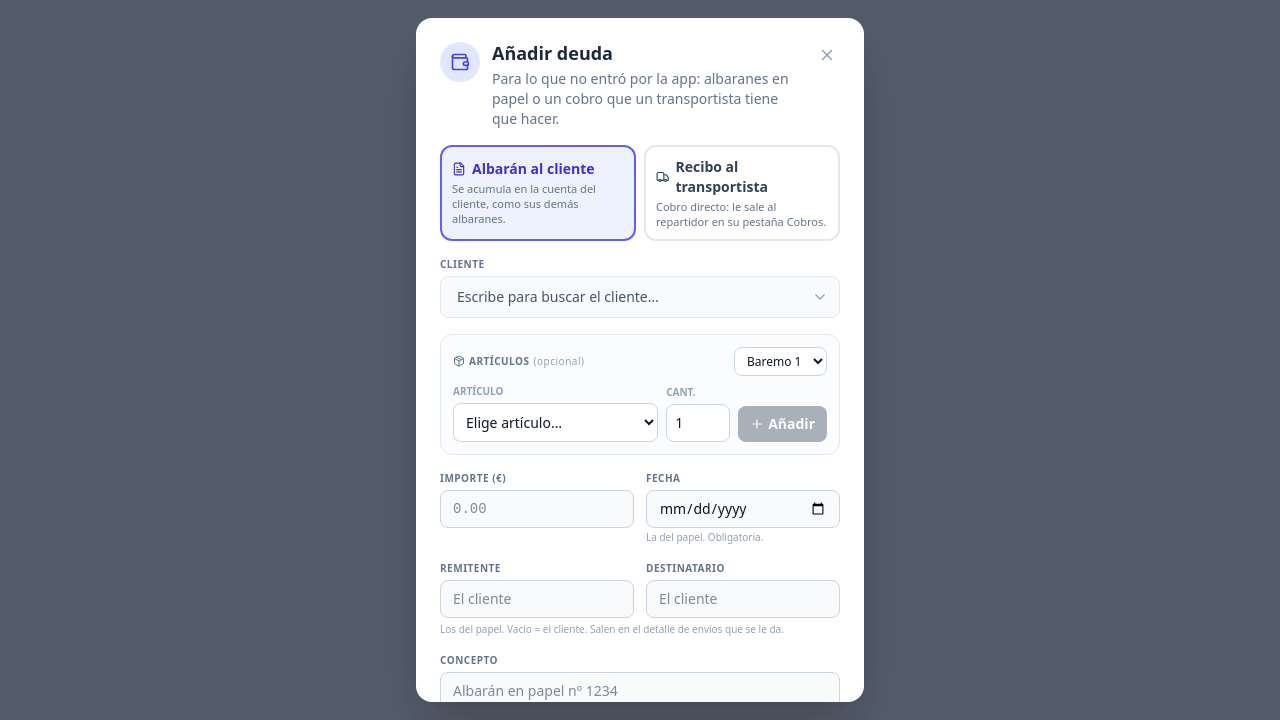
Test: NuevaDeudaModal › la tarifa especial del cliente manda sobre el precio del artículo, y quitar la línea vacía el desglose
The image size is (1280, 720).
Type "tarifa" into the field with placeholder "Escribe para buscar el cliente…" at (640, 297), box [440,276,840,318]
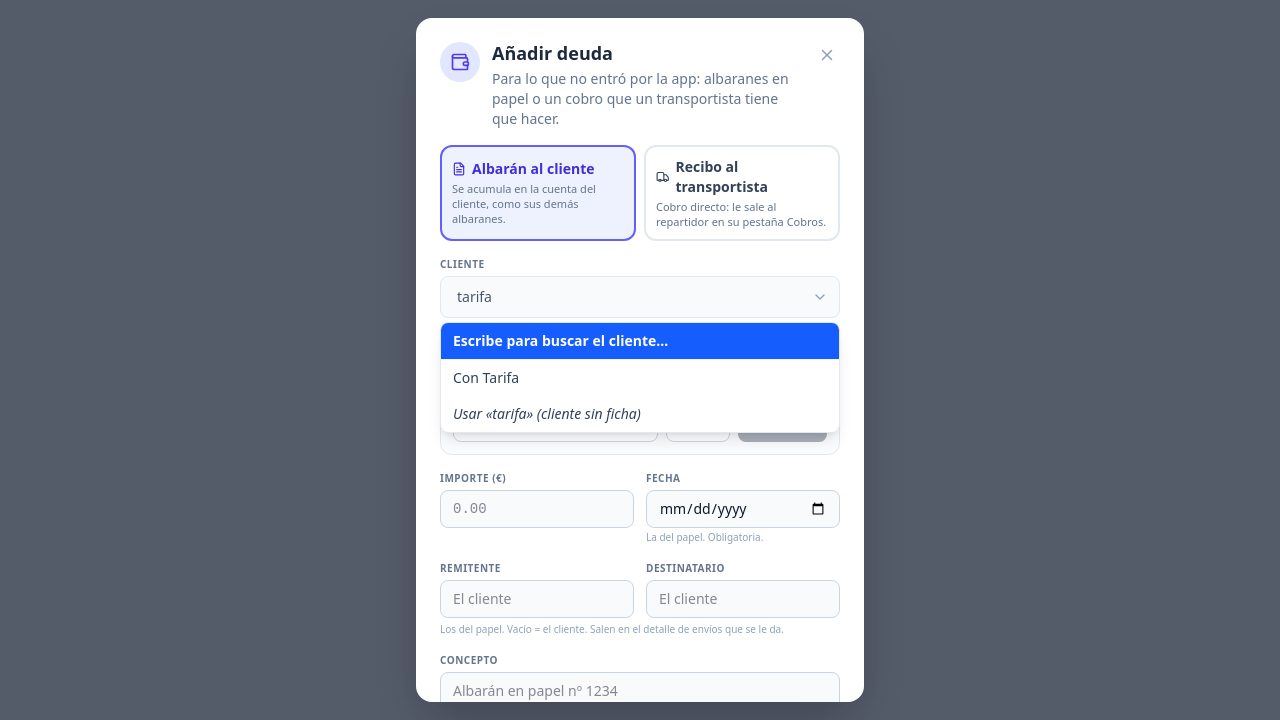
Press the mouse on the text "Con Tarifa" at (486, 377), box [453,368,519,387]
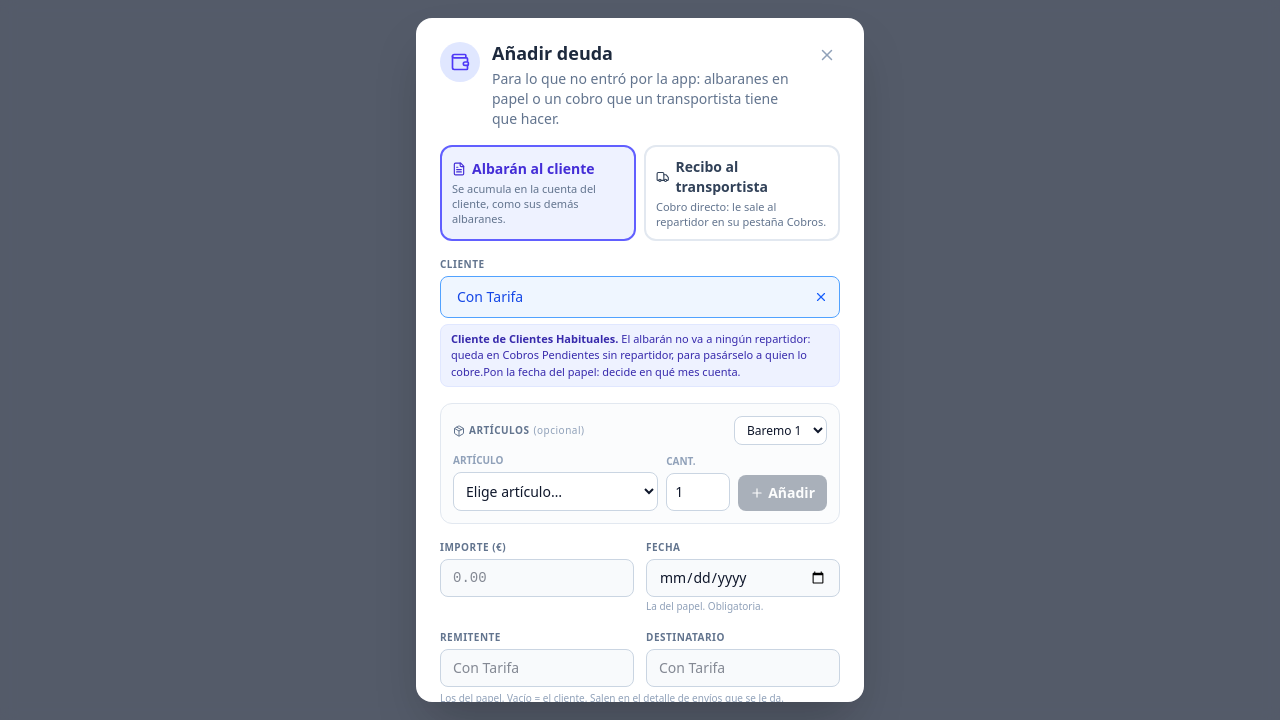
Select "BLT_1" in the dropdown labelled "Artículo" at (556, 492), box [453,472,658,511]
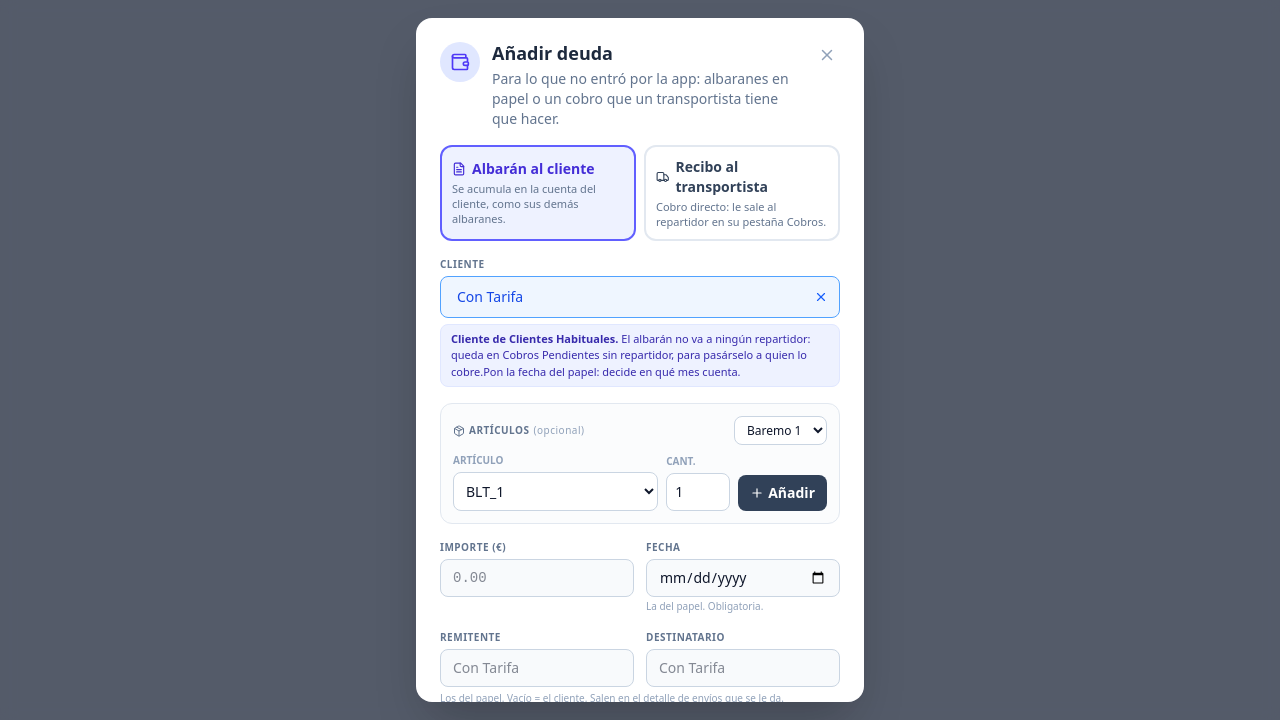
Click the button "Añadir" at (783, 493), box [738,475,827,511]
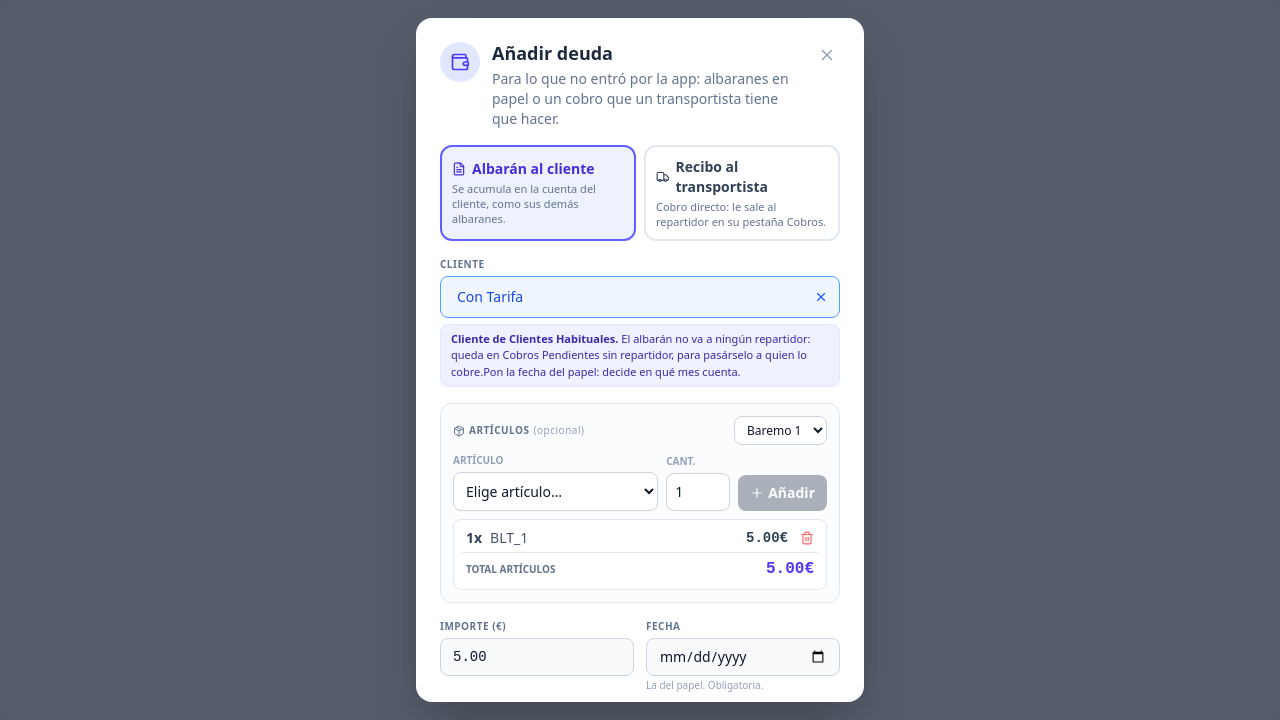
Result: the number field labelled "Importe (€)" holds "5" at [440,638,634,676]
Click the button named "Quitar BLT_1" at (807, 538), box [800,531,814,545]
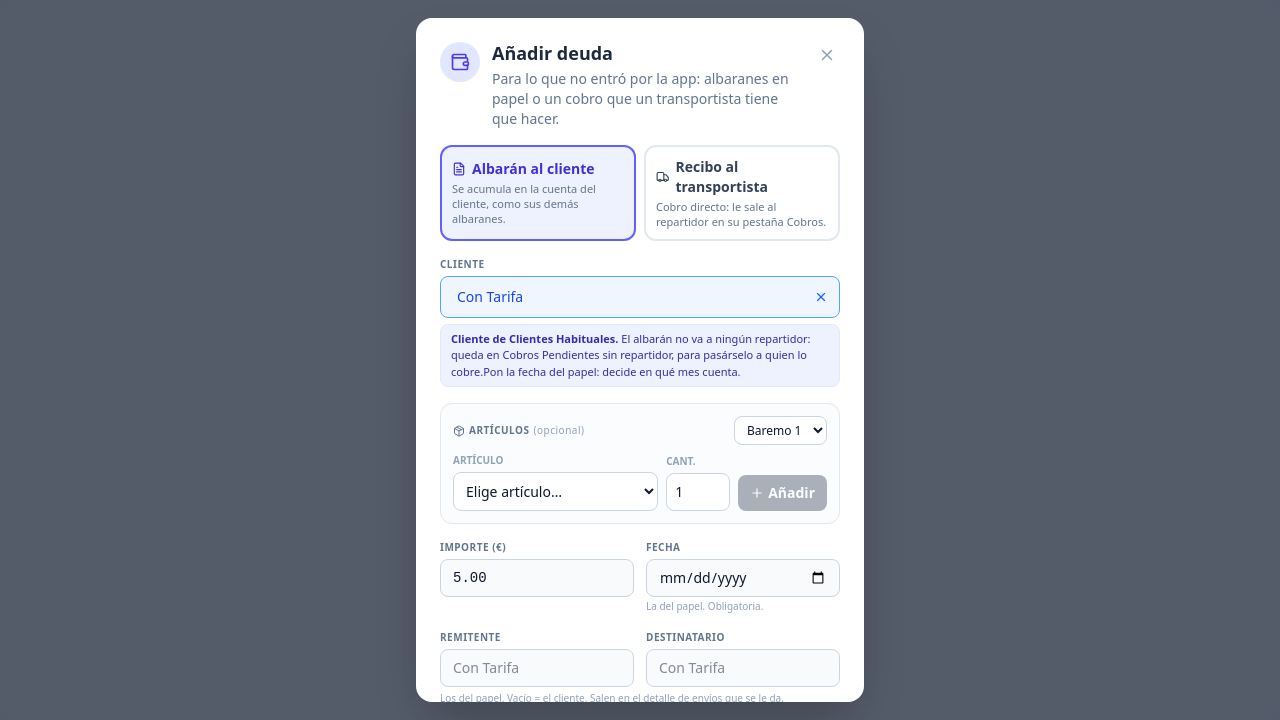
Result: the text "Total artículos" is gone
